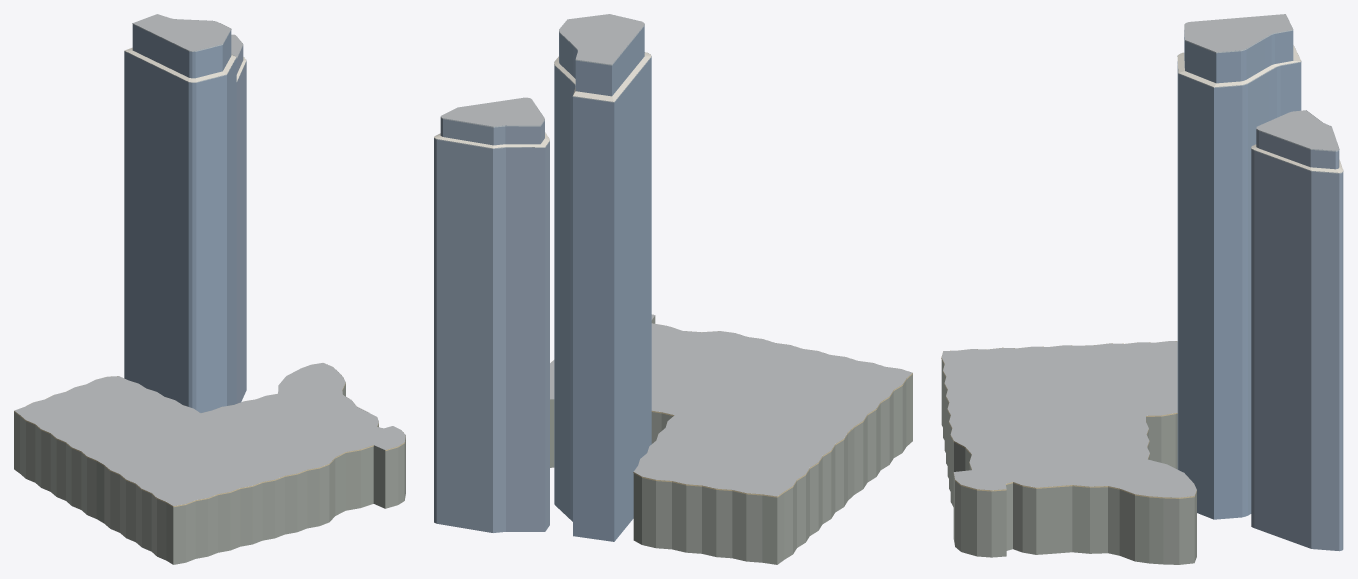
The model's file is iconsiam.glb.
The picture shows the model from 3 angles, left to right: view 1: azimuth 30°, elevation 25°; view 2: azimuth 150°, elevation 25°; view 3: azimuth 270°, elevation 25°; orthographic projection. The views are drawn at different scales.
Visible parts, largest first — view 1: iconsiam; view 2: iconsiam; view 3: iconsiam.
Boxes of the visible parts, <box> form: iconsiam: <box>14,14,405,564</box>; iconsiam: <box>434,14,912,564</box>; iconsiam: <box>941,14,1343,564</box>.
Size of the model in its own units: 234 by 318 by 249.
